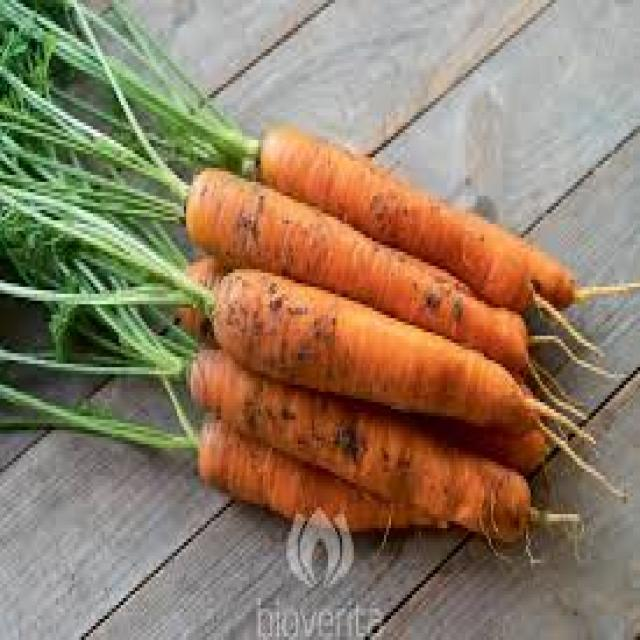Stale_Carrot: (184, 362, 558, 536), (194, 294, 581, 456)
